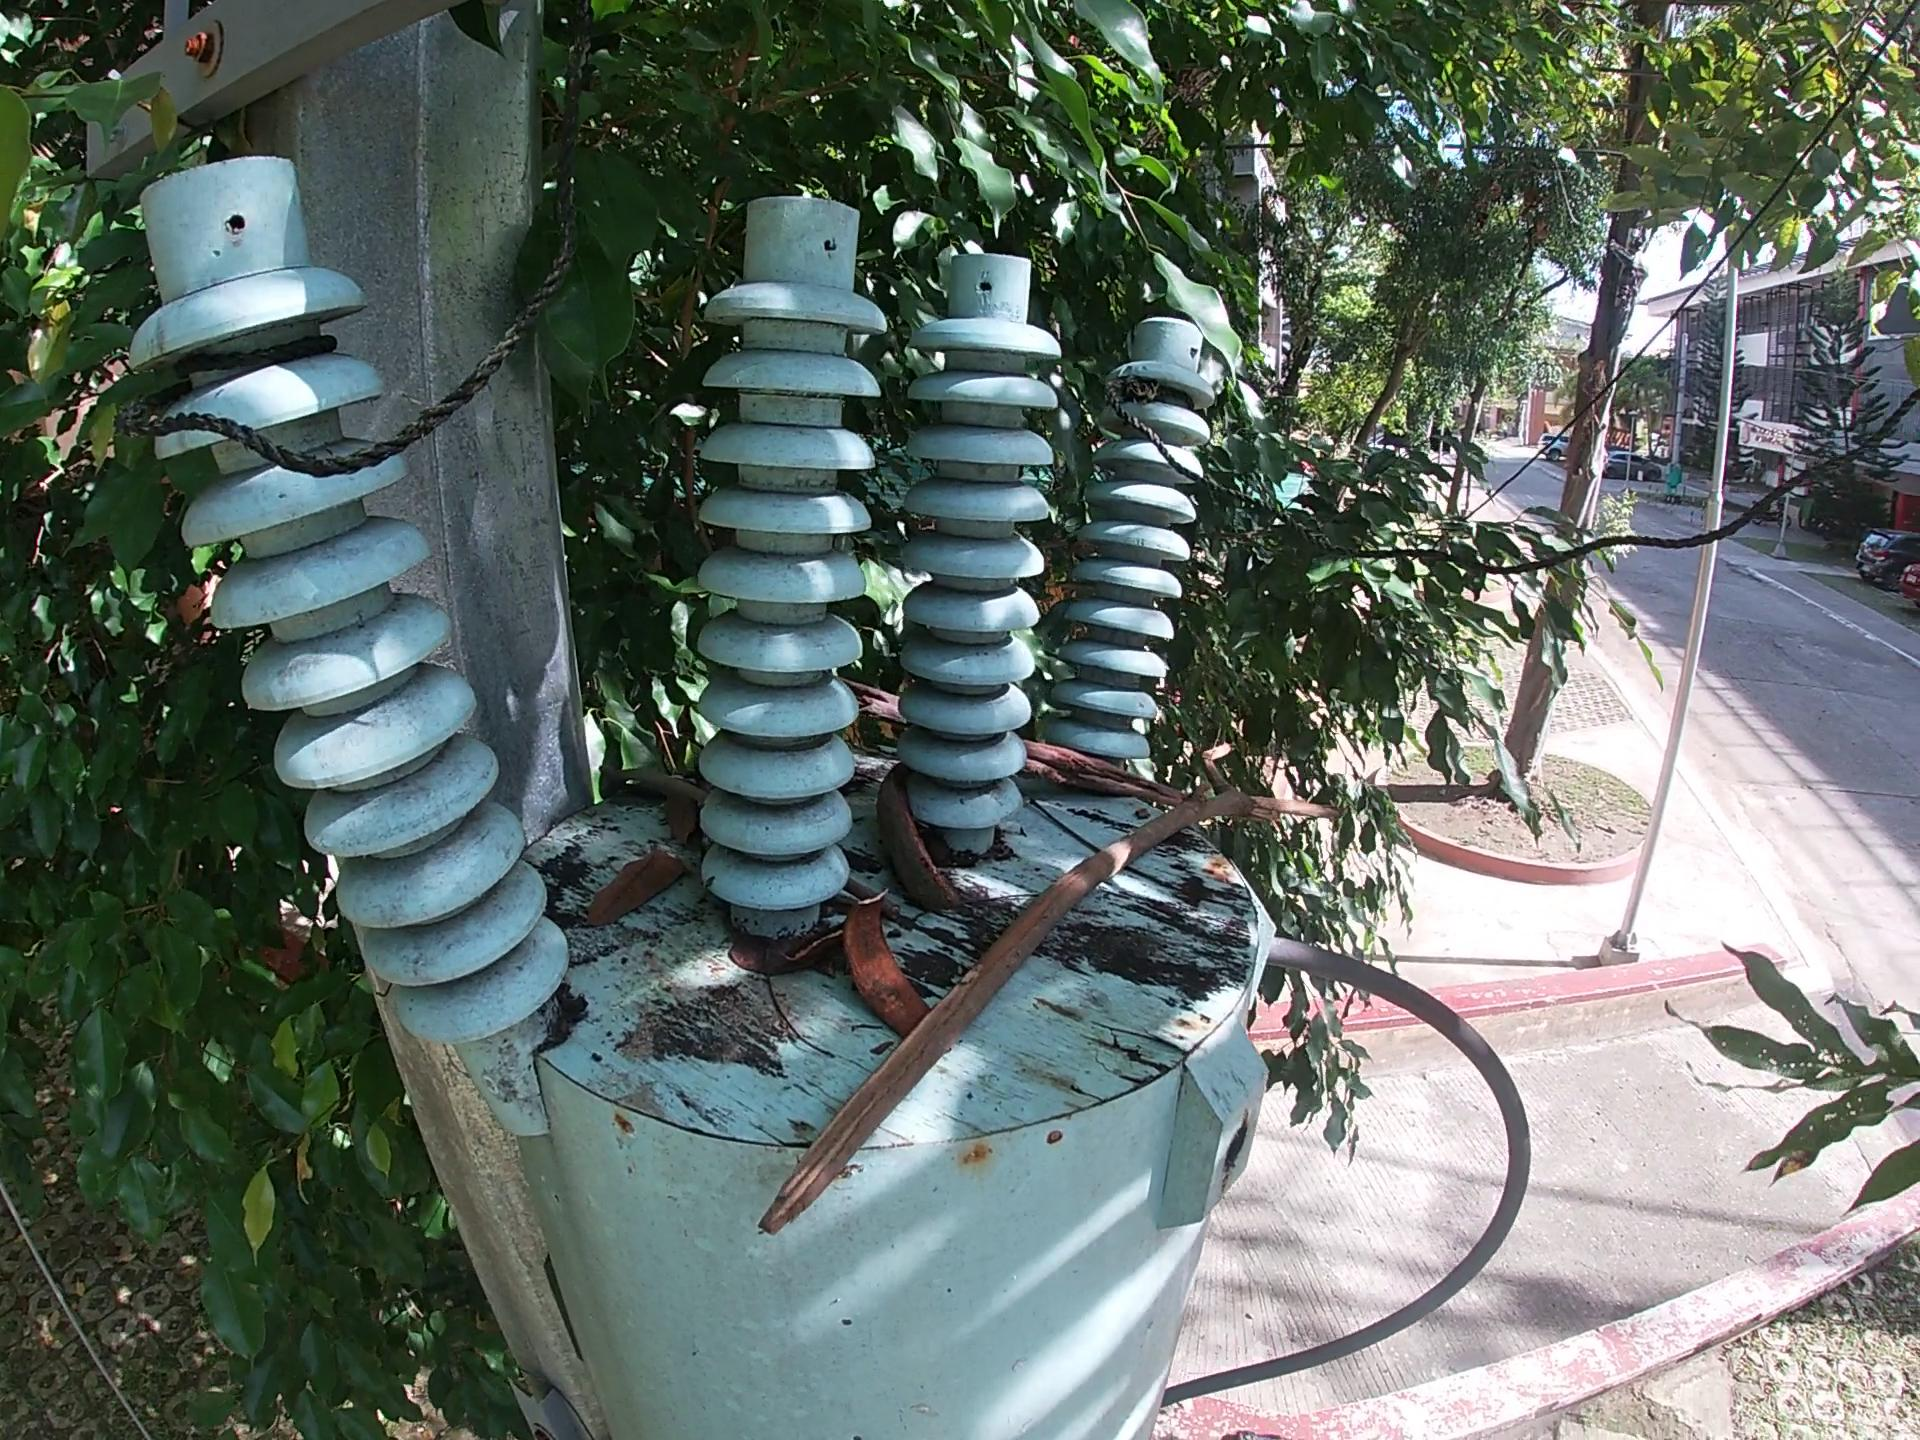leaf: (582, 835, 692, 927), (720, 932, 801, 982), (658, 793, 701, 844)
mahogany fruit: (835, 888, 934, 1041), (871, 762, 968, 920)
tree branch: (748, 740, 1339, 1246), (838, 679, 1196, 808), (597, 762, 723, 803), (844, 880, 901, 917)
